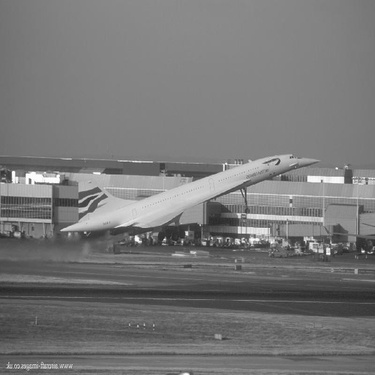airplane: (48, 145, 327, 248)
